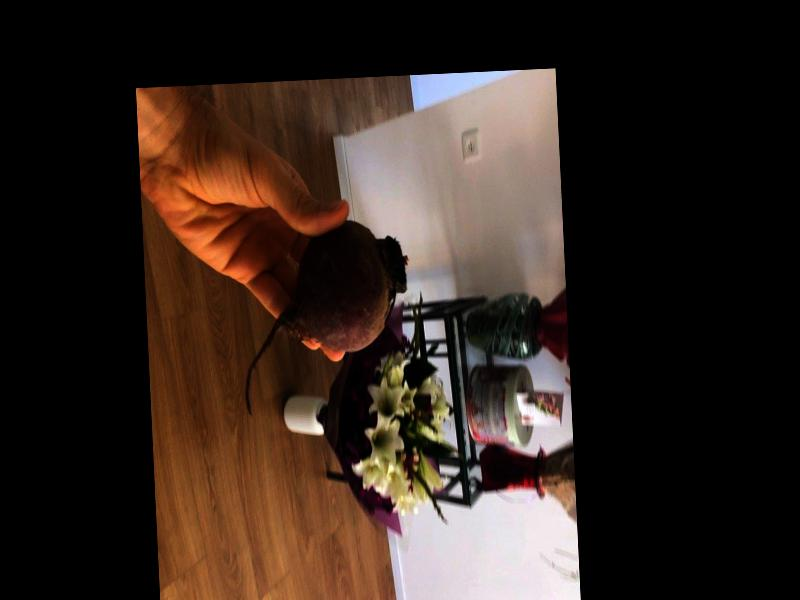Beet: (238, 218, 413, 418)
